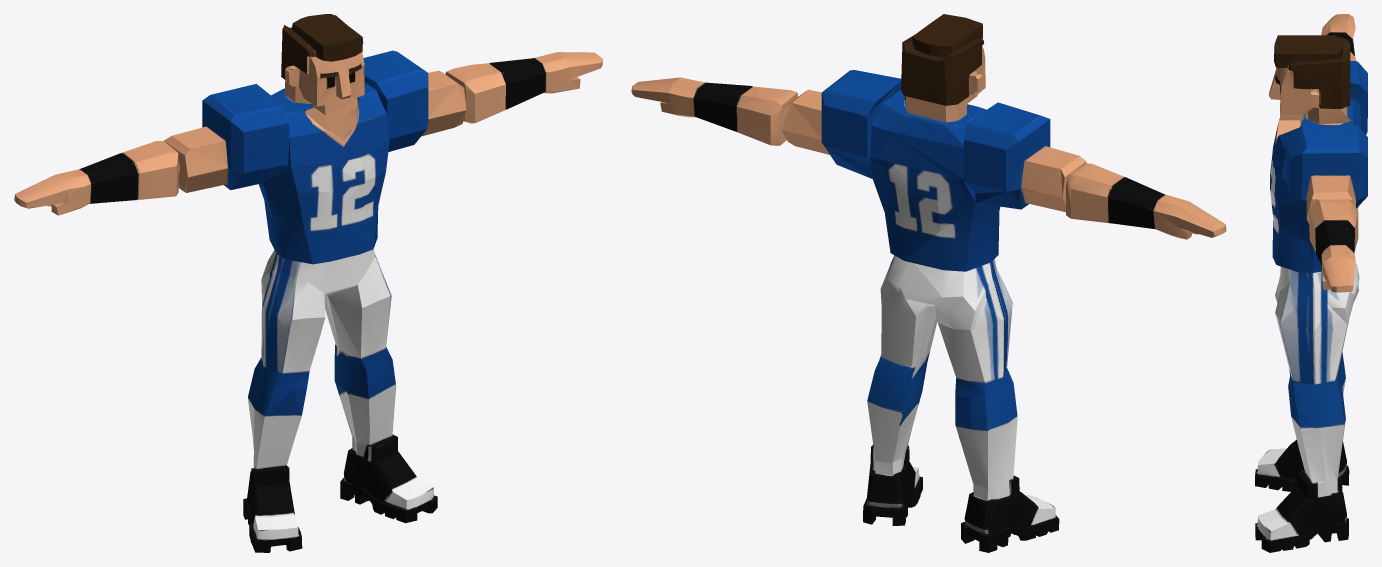
The picture shows the model from 3 angles, left to right: view 1: azimuth 30°, elevation 25°; view 2: azimuth 150°, elevation 25°; view 3: azimuth 270°, elevation 25°; orthographic projection. The views are drawn at different scales.
Parts seen in each view (by area): view 1: output_unwrapped; view 2: output_unwrapped; view 3: output_unwrapped.
Part boxes in pixels (bbox=[...]): output_unwrapped: bbox=[14, 14, 602, 552]; output_unwrapped: bbox=[631, 14, 1226, 552]; output_unwrapped: bbox=[1255, 14, 1367, 552].
Size of the model in its own units: 1.9 by 1.52 by 0.3332.
Materials: 1 (1 with a texture image).
